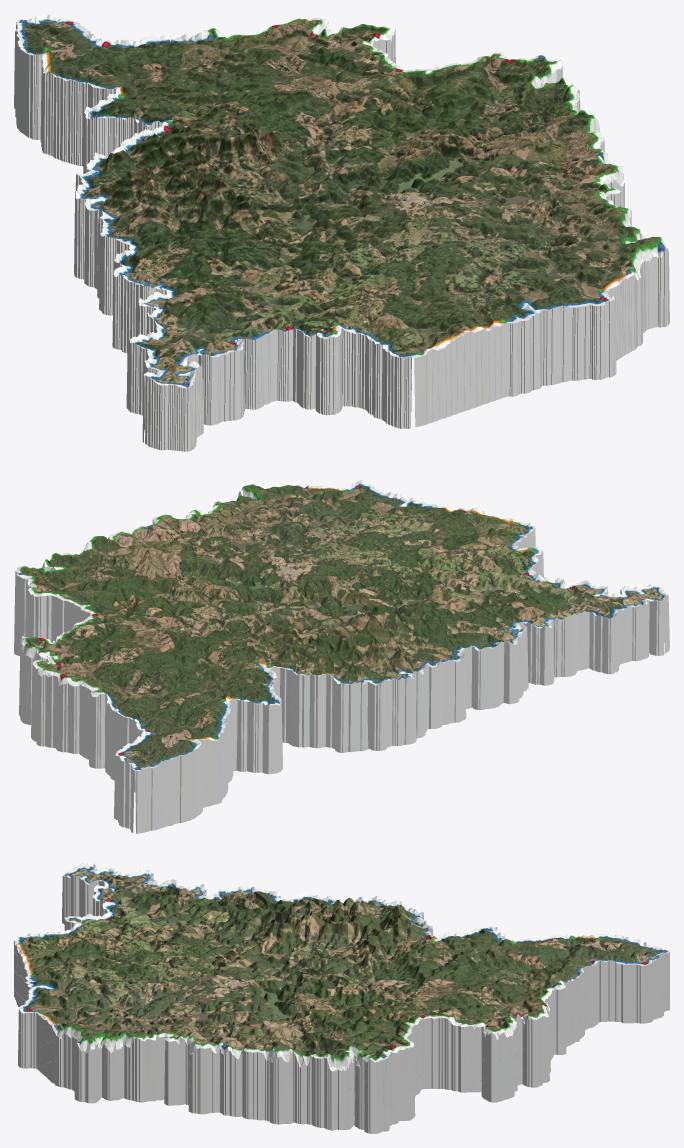
The picture shows the model from 3 angles, top to bottom: view 1: azimuth 30°, elevation 25°; view 2: azimuth 150°, elevation 25°; view 3: azimuth 270°, elevation 25°; orthographic projection. The views are drawn at different scales.
Bounding box in the file's own units: 0.0984 × 0.0167 × 0.1235.
1 material, 1 textured.
